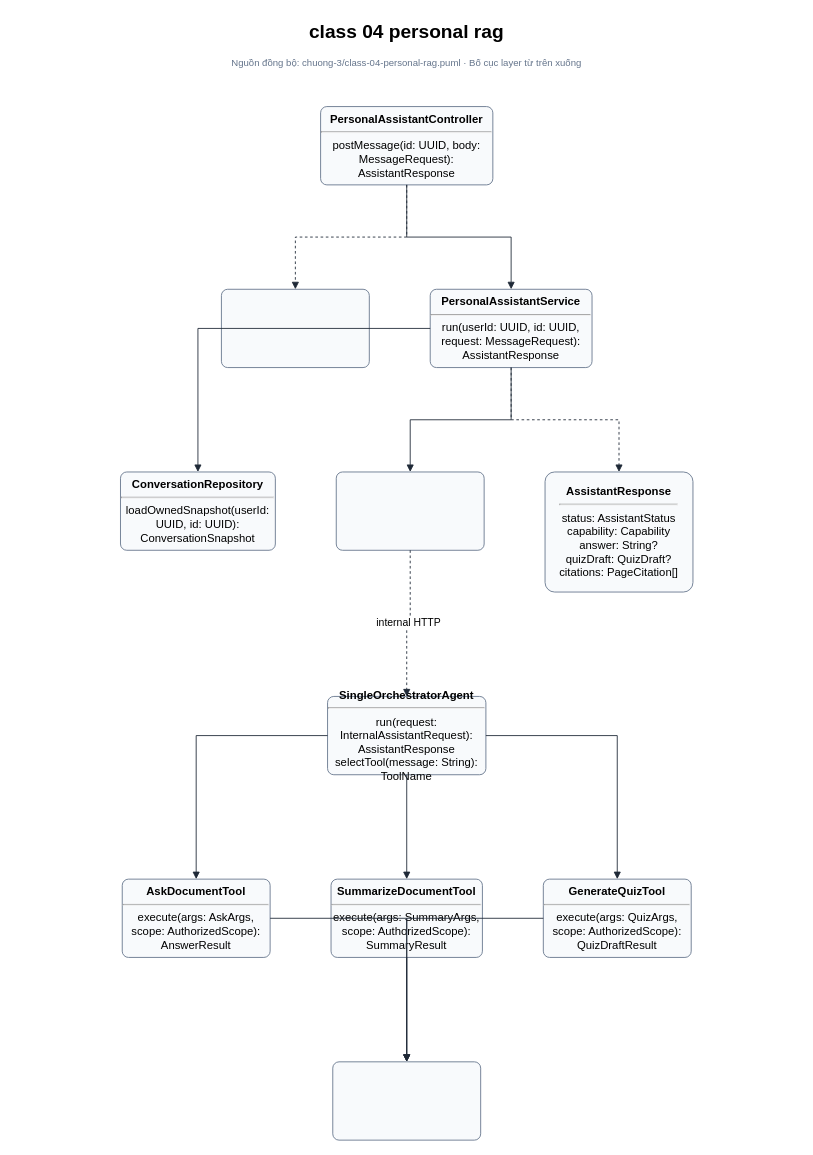
This 813x1155 diagram has some shape labels left out. Each missing label, with the centre of its shape:
"AiClient runAssistant(request: InternalAssistantRequest): AssistantResponse" belongs at [409,510].
"MessageRequest message: String selectedDocumentIds: UUID[]" belongs at [295,328].
"ScopedRetriever search(scope: AuthorizedScope, query: String): EvidenceSet" belongs at [406,1100].
